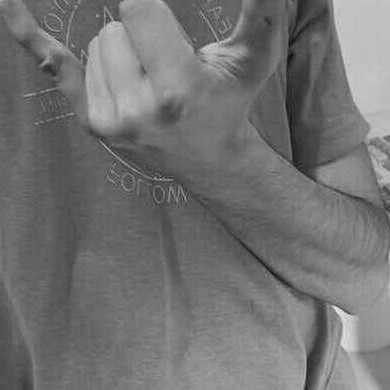Y: (1, 1, 285, 178)
